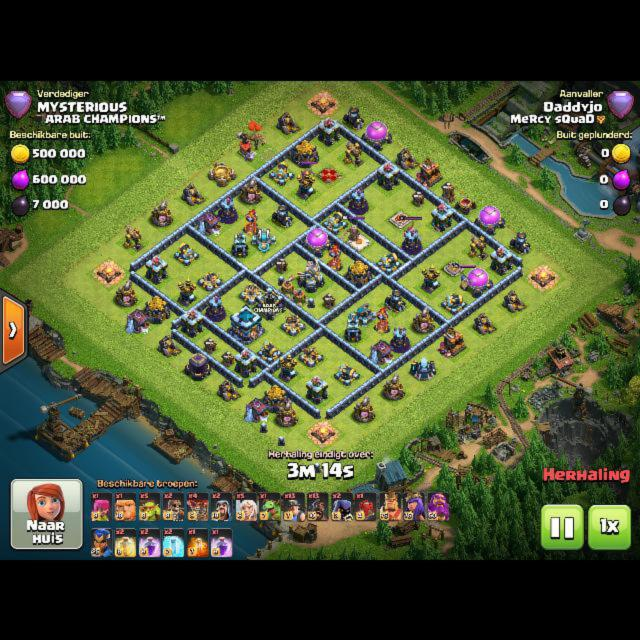AD: (296, 171, 316, 200), (420, 264, 440, 293), (176, 277, 196, 306), (279, 353, 298, 382)
AirSweeper: (278, 275, 296, 298), (290, 287, 308, 307)
BombTower: (345, 315, 362, 341), (232, 230, 248, 256)
Canon: (256, 340, 282, 363), (268, 161, 294, 184), (322, 211, 348, 234), (173, 242, 199, 265), (334, 363, 360, 385), (375, 251, 401, 273), (441, 292, 467, 314)
ClanCastle: (255, 285, 284, 319)
Eagle: (296, 258, 324, 293)
Inferno: (326, 244, 342, 271), (374, 307, 390, 333), (243, 209, 259, 235)
KingPad: (389, 211, 411, 228)
Mortar: (342, 105, 364, 129), (271, 203, 293, 227), (509, 231, 531, 254), (384, 289, 406, 312)
QueenPad: (317, 165, 341, 183)
RcPad: (444, 260, 463, 274)
Scattershot: (348, 302, 376, 326), (251, 228, 275, 253)
TH13: (229, 303, 262, 343)
WardenPad: (349, 233, 370, 248)
WizzTower: (217, 196, 237, 222), (391, 326, 410, 352), (349, 187, 368, 213), (402, 227, 421, 253), (206, 294, 225, 320)
Xbow: (280, 311, 306, 335), (299, 345, 324, 367), (239, 282, 264, 304), (197, 270, 223, 291)
